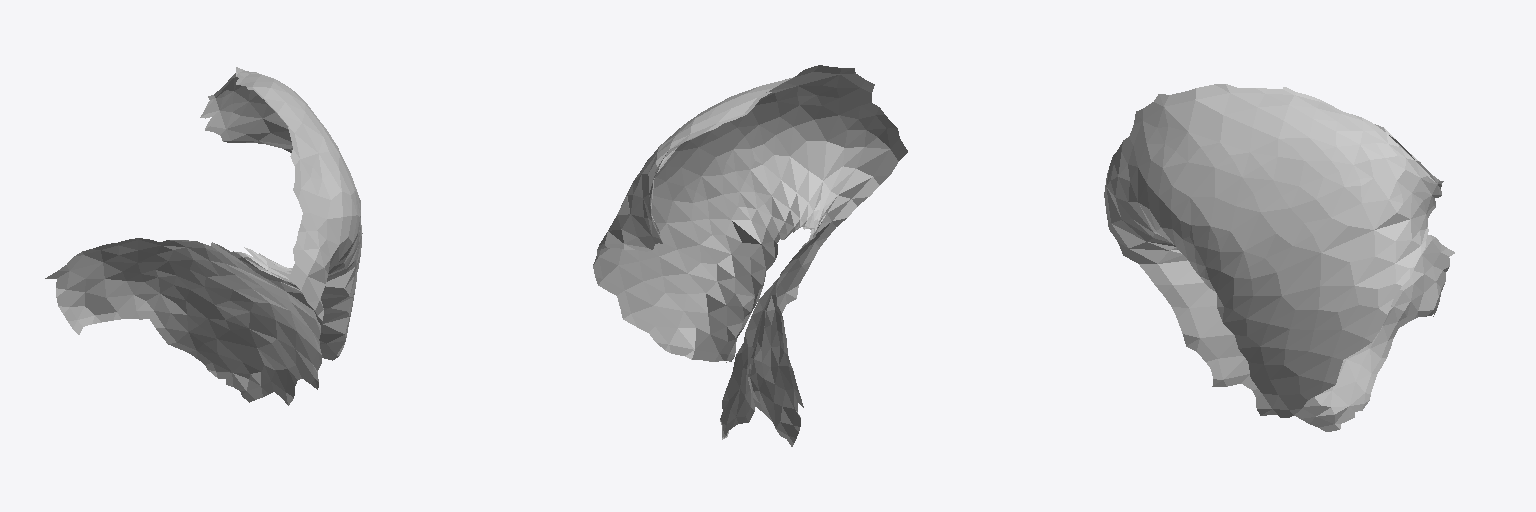
Rendered from L_frontal_inferior_orbital.obj.
The picture shows the model from 3 angles: view 1: azimuth 30°, elevation 25°; view 2: azimuth 150°, elevation 25°; view 3: azimuth 270°, elevation 25°; orthographic projection.
Parts seen in each view (by area): view 1: L_frontal_inferior_orbital_R_frontal_inferior_orbital; view 2: L_frontal_inferior_orbital_R_frontal_inferior_orbital; view 3: L_frontal_inferior_orbital_R_frontal_inferior_orbital.
Boxes of the visible parts, box(x1,y1,x2,y2) form: L_frontal_inferior_orbital_R_frontal_inferior_orbital: box(45, 67, 362, 405); L_frontal_inferior_orbital_R_frontal_inferior_orbital: box(593, 65, 907, 446); L_frontal_inferior_orbital_R_frontal_inferior_orbital: box(1104, 84, 1454, 431).
Bounding box in the file's own units: 52.28 × 67.75 × 64.23.